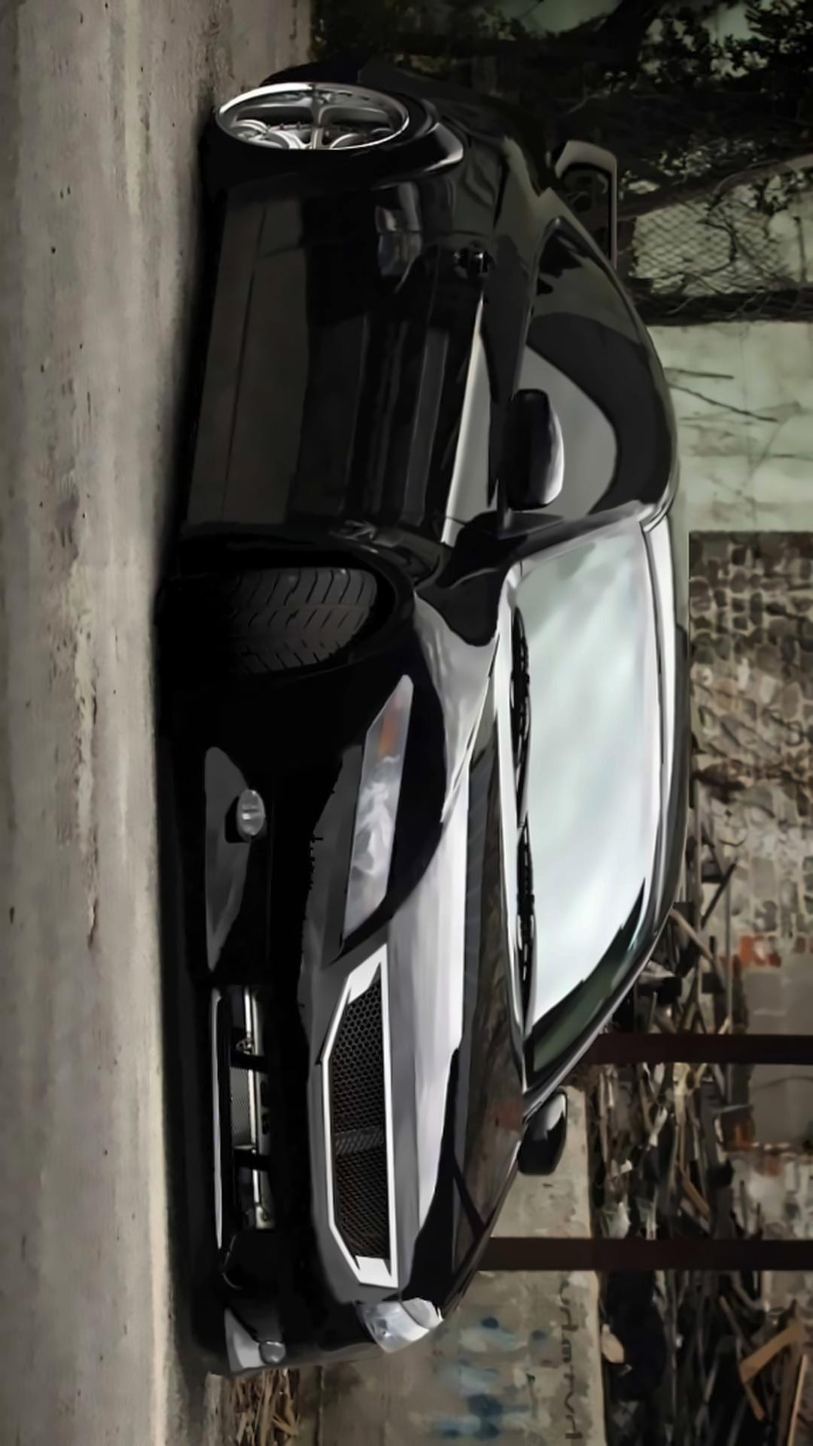Car hood: (375, 604, 549, 1300)
Driver-s door - -F-R-: (141, 296, 732, 553)
Fender - -F-R-: (183, 455, 533, 693)
Front bumper: (138, 565, 429, 1378)
Headlight - -L-: (342, 1286, 449, 1354)
Headlight - -R-: (326, 671, 434, 959)
Passenger-s door - -R-R-: (188, 138, 748, 361)
Side bumper - -R-: (158, 156, 344, 573)
Side mirror - -L-: (525, 1077, 574, 1200)
Side mirror - -R-: (439, 379, 565, 542)
